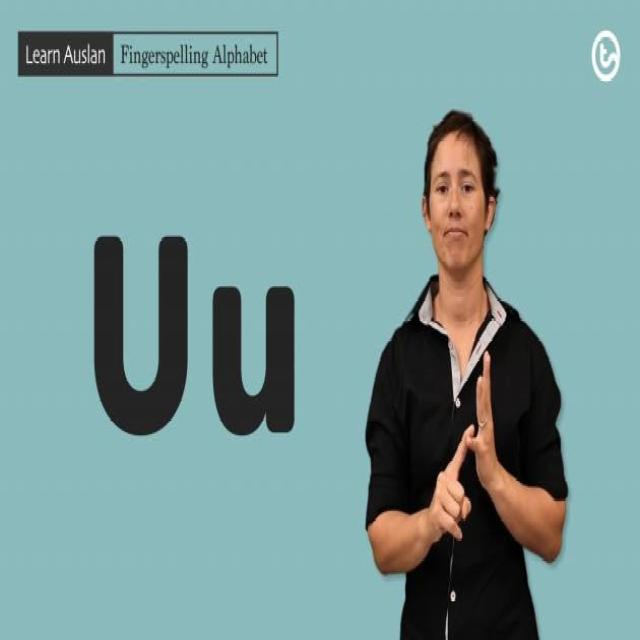U: (433, 349, 501, 549)
